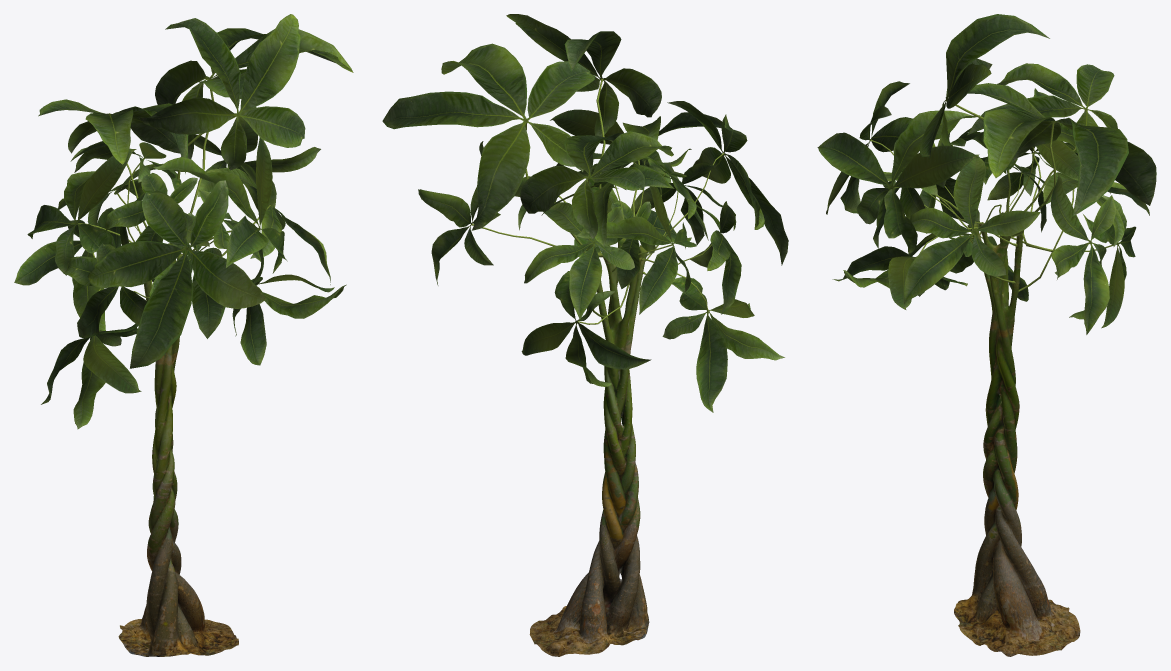
Rendered from plant.glb.
3 renders of one model, left to right at view 1: azimuth 30°, elevation 25°; view 2: azimuth 150°, elevation 25°; view 3: azimuth 270°, elevation 25°, orthographic. The views are drawn at different scales.
Visible parts, largest first — view 1: pachira_aquatica_01_leaves_a, pachira_aquatica_01_bark_a; view 2: pachira_aquatica_01_leaves_a, pachira_aquatica_01_bark_a; view 3: pachira_aquatica_01_leaves_a, pachira_aquatica_01_bark_a.
Boxes of the visible parts, left/top/right/bottom form: pachira_aquatica_01_leaves_a: left=14, top=14, right=353, bottom=429; pachira_aquatica_01_bark_a: left=118, top=243, right=238, bottom=656; pachira_aquatica_01_leaves_a: left=382, top=14, right=788, bottom=412; pachira_aquatica_01_bark_a: left=529, top=238, right=649, bottom=656; pachira_aquatica_01_leaves_a: left=817, top=14, right=1156, bottom=334; pachira_aquatica_01_bark_a: left=954, top=212, right=1080, bottom=656.
Size of the model in its own units: 0.743 by 1.3 by 0.6458.
2 materials, 2 textured.
